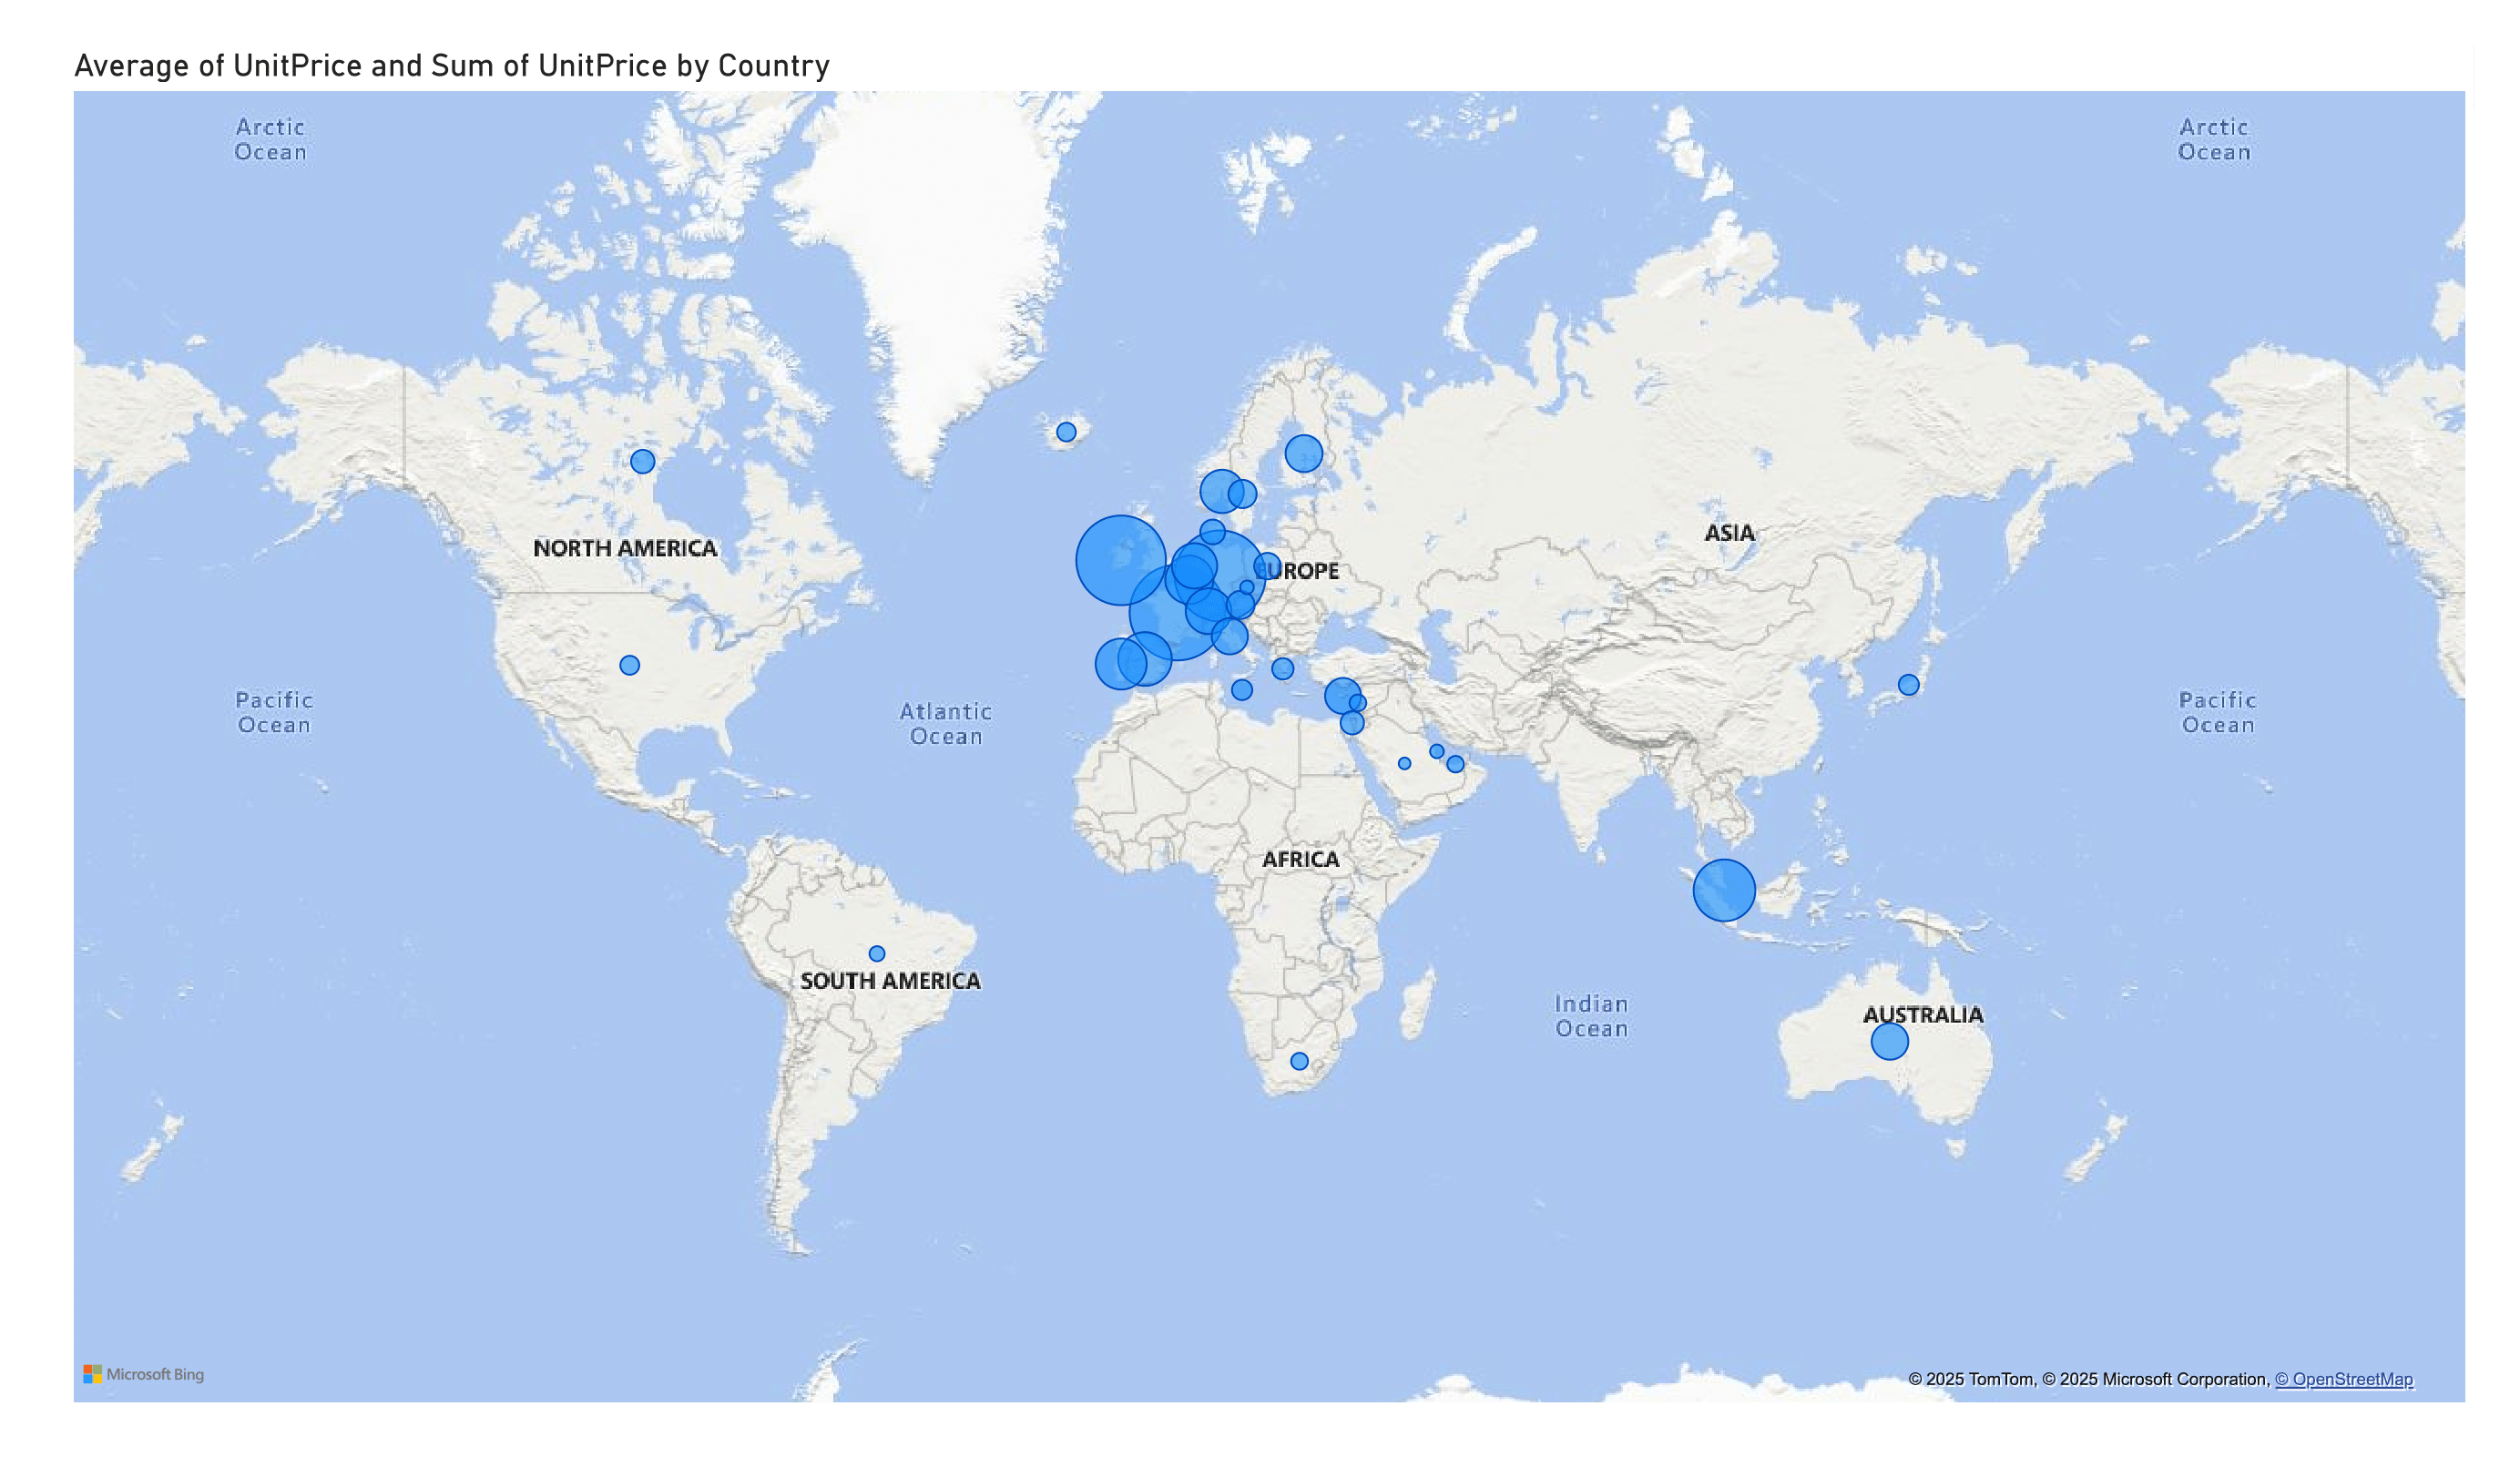

What the dashboard file says about the page in this screenshot:
{"tool":"powerbi","page":{"name":"Page 4","canvas":[1280,720],"ordinal":3},"visuals":[{"type":"map","fields":{"Category":["Online Retail (2).Country"],"Y":["Avg(Online Retail (2).UnitPrice)"],"Size":["Sum(Online Retail (2).UnitPrice)"]},"box":[10,0,1270,720],"z":0}]}

Visuals, with their boxes on the page's 1280x720 design canvas (x1, y1, x2, y2). These are canvas units, not pixel positions in the 2520x1457 screenshot, which may show the page scaled, cropped or inside an application window:
map - Online Retail (2).Country x Avg(Online Retail (2).UnitPrice): bbox=(10, 0, 1280, 720)
